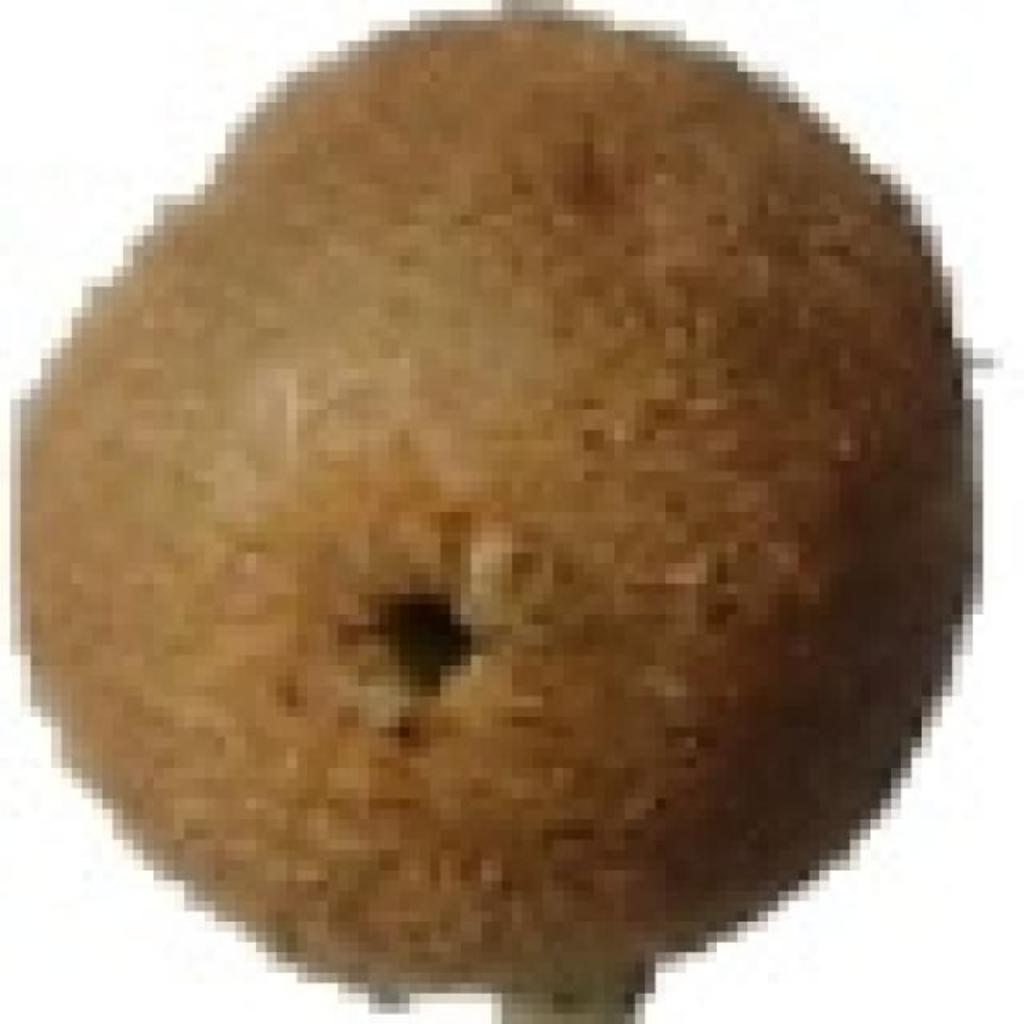kiwi: (23, 20, 990, 1017)
